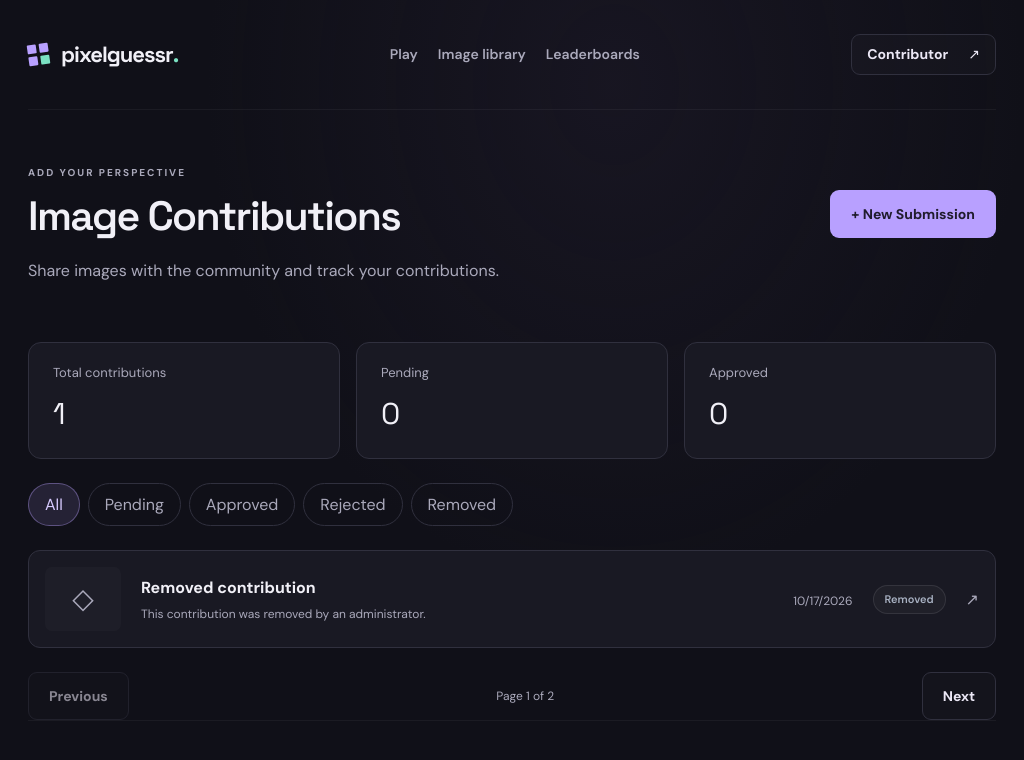
Test: renders removed history and details without old image content even if extra fields arrive
This screenshot has width=1024, height=760.
Click the button "Removed contribution" at (83, 599), box [28,550,996,648]
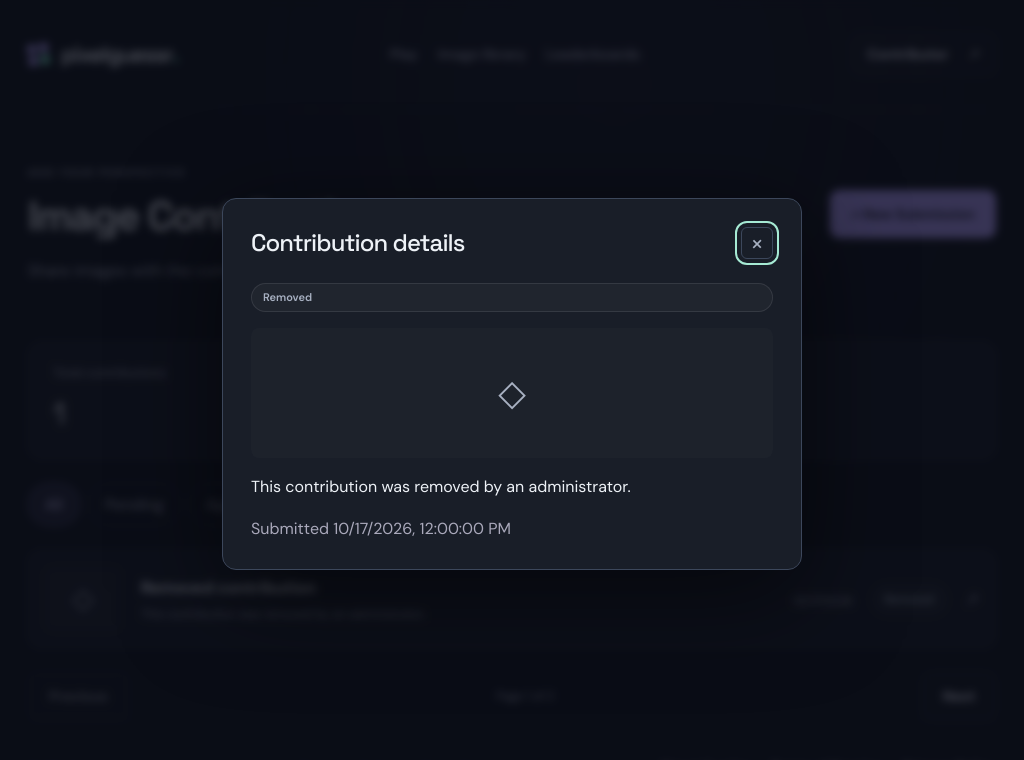
Expected: the text "This contribution was removed by an administrator." is shown, [251,476,631,497]
